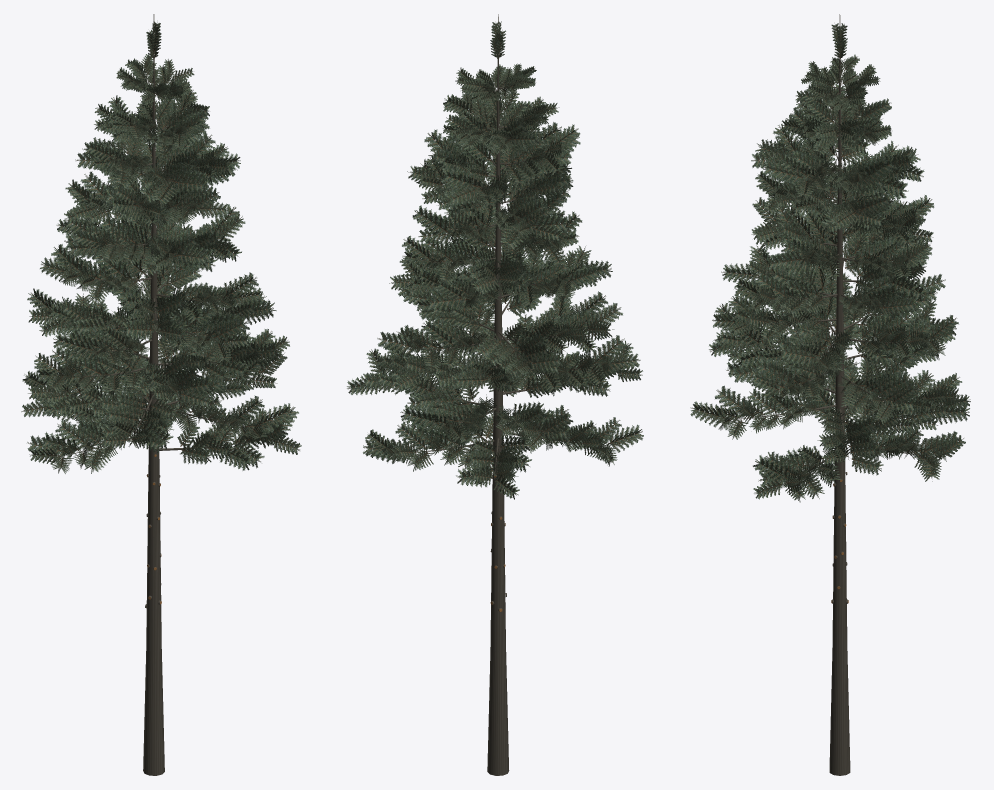
Rendered from Sitka_Pole_01_HighPruned_Recent_LOD0.fbx.
The picture shows the model from 3 angles, left to right: view 1: azimuth 30°, elevation 25°; view 2: azimuth 150°, elevation 25°; view 3: azimuth 270°, elevation 25°; orthographic projection.
Parts seen in each view (by area): view 1: Sitka_Pole_01_HighPruned_Recent_LOD0; view 2: Sitka_Pole_01_HighPruned_Recent_LOD0; view 3: Sitka_Pole_01_HighPruned_Recent_LOD0.
Boxes of the visible parts, <box> form: Sitka_Pole_01_HighPruned_Recent_LOD0: <box>21,14,301,775</box>; Sitka_Pole_01_HighPruned_Recent_LOD0: <box>347,14,643,775</box>; Sitka_Pole_01_HighPruned_Recent_LOD0: <box>690,14,970,775</box>.
Size of the model in its own units: 303 by 800 by 285.
3 materials, 3 textured.
